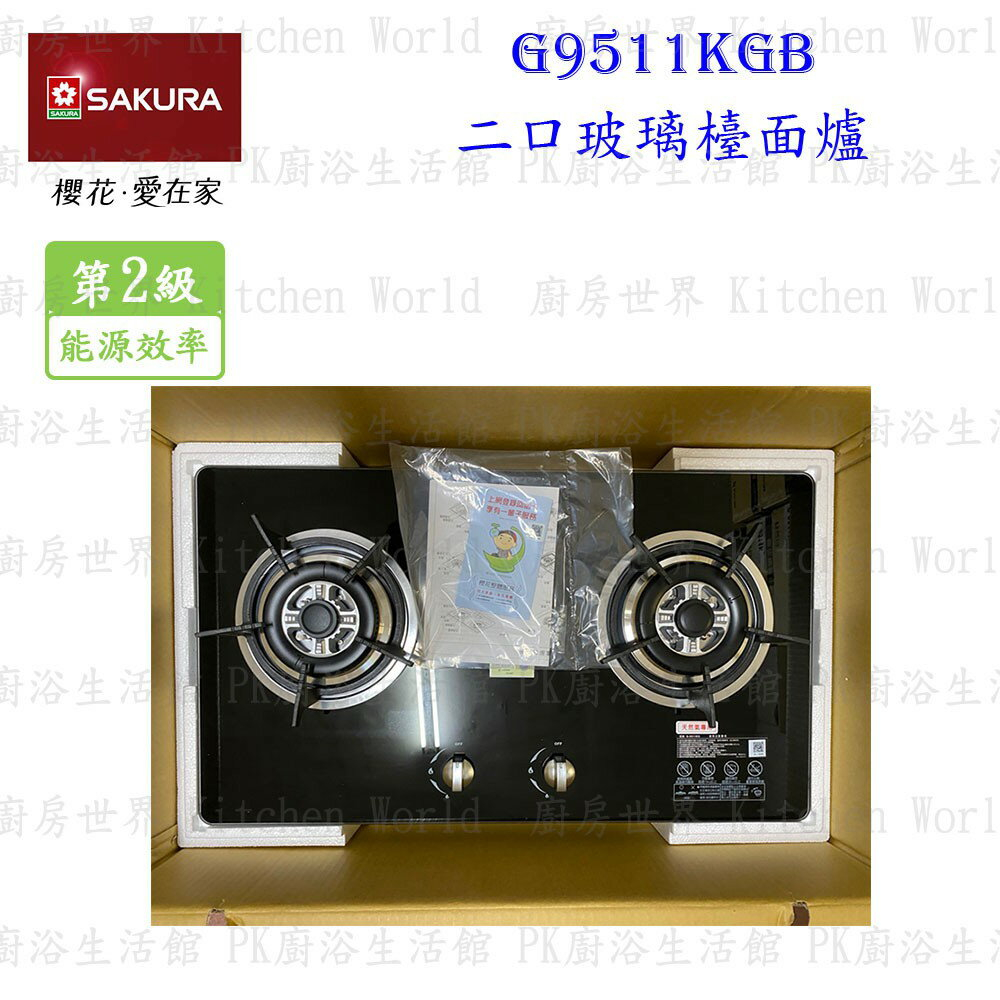gasoven: (167, 436, 846, 851)
